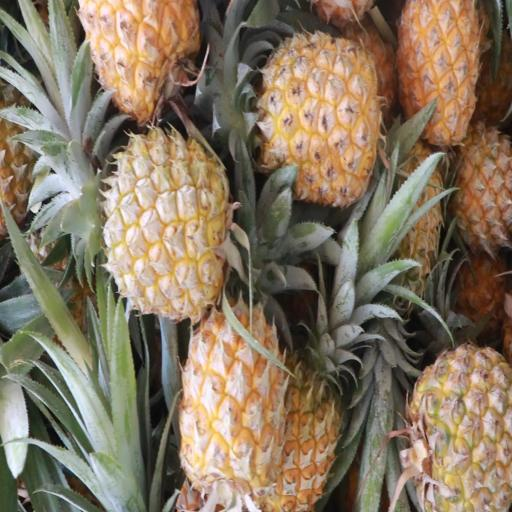------------------------------: (395, 343, 512, 512)
Pineapple - v8 v1: (91, 127, 229, 330), (236, 34, 380, 207), (178, 295, 288, 512), (267, 272, 343, 512), (396, 2, 483, 150), (431, 124, 512, 266)
